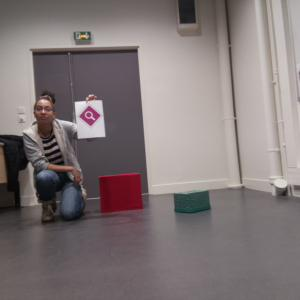search: (79, 104, 101, 127)
